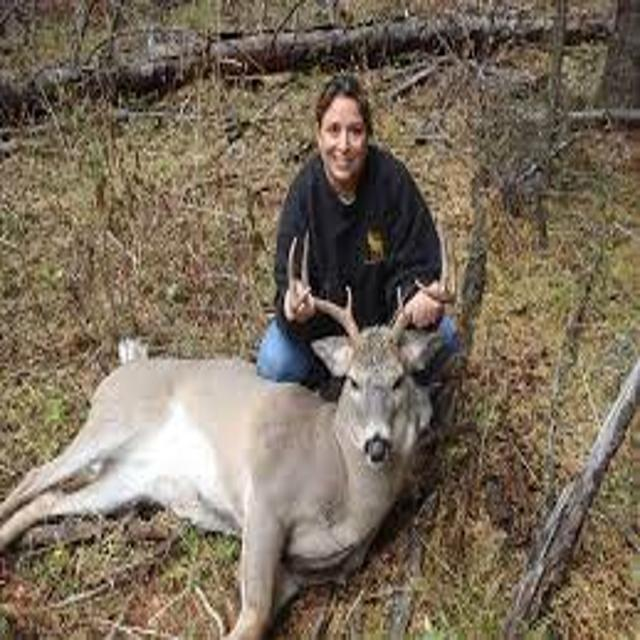deer: (1, 244, 534, 640)
poacher: (229, 60, 496, 429)
